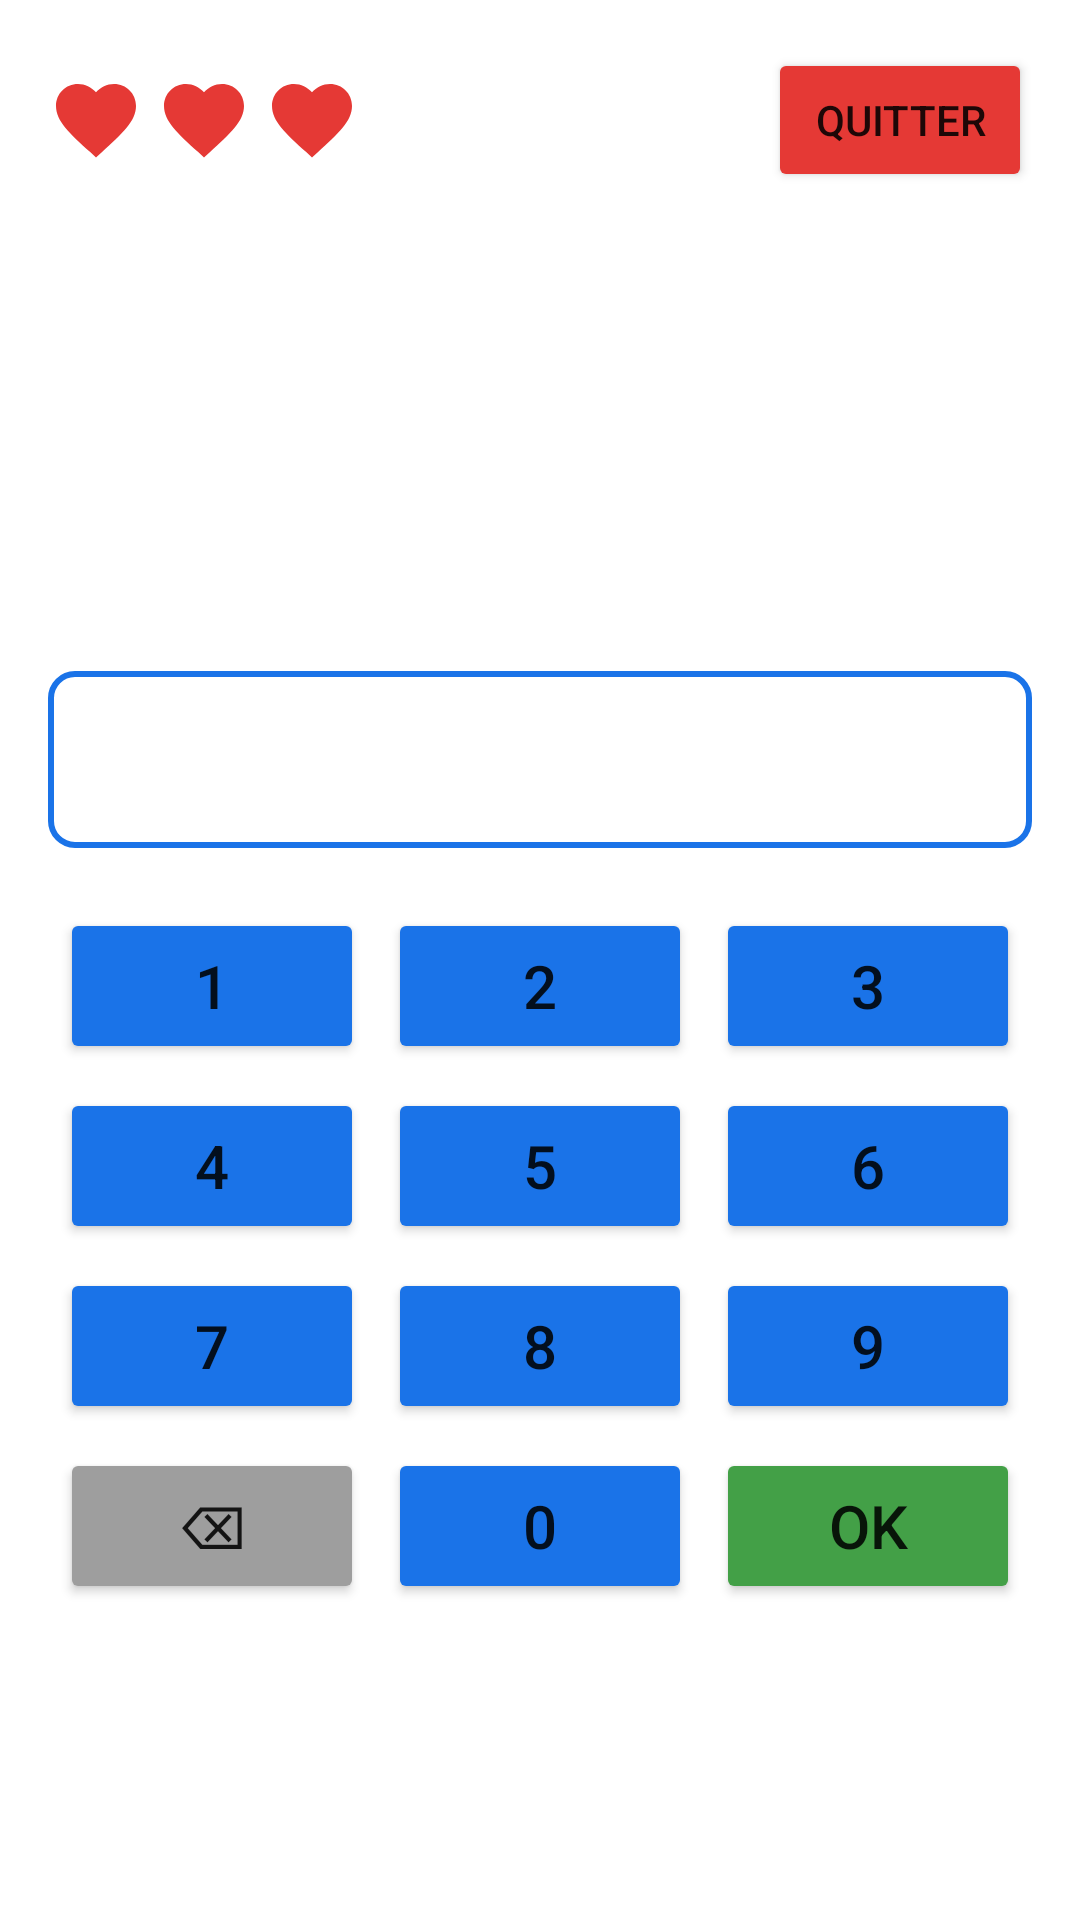

Named icons in this screenshot (1080 x 1920) and their centers, [x,y]:
Vies: [96,121], [204,121], [312,121]
